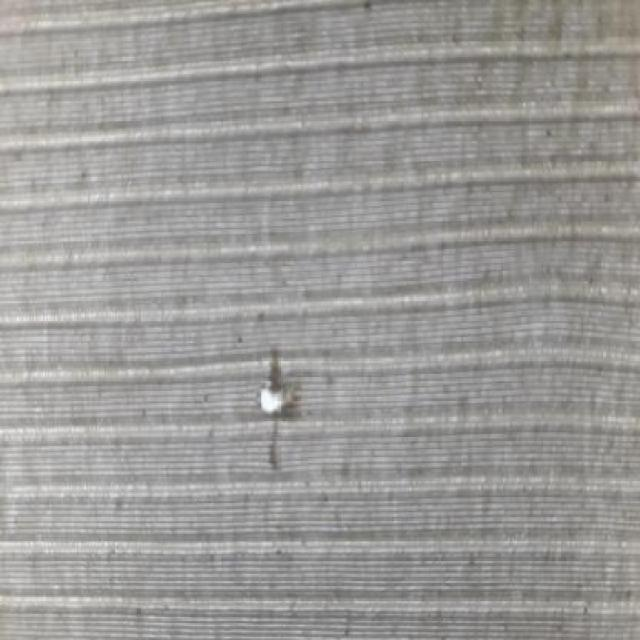seam: (254, 383, 294, 419)
